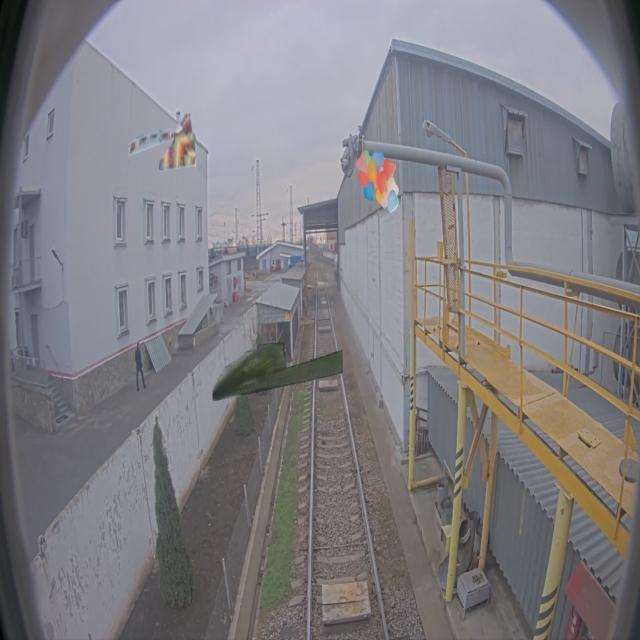balloon: (356, 150, 399, 213)
floating object: (213, 338, 342, 402), (128, 109, 201, 172)
